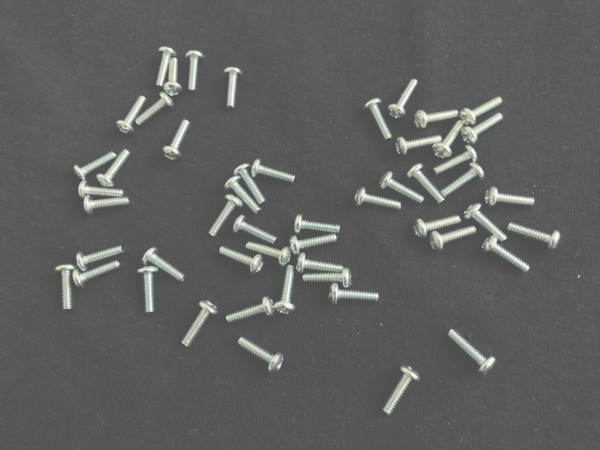shortscrew: (448, 328, 497, 376), (383, 364, 421, 416), (481, 235, 530, 272), (181, 301, 218, 348), (238, 337, 284, 374), (464, 203, 507, 242), (441, 163, 485, 198), (407, 164, 445, 204), (508, 224, 562, 252), (208, 195, 243, 238), (142, 248, 186, 282), (224, 176, 261, 215), (380, 171, 424, 203), (233, 215, 279, 245), (462, 113, 505, 145), (234, 163, 266, 205), (219, 246, 265, 275), (97, 149, 131, 188), (226, 297, 275, 324), (433, 145, 477, 175), (460, 97, 505, 126), (388, 78, 419, 120), (136, 92, 174, 126), (73, 152, 116, 182), (73, 261, 120, 288), (75, 246, 125, 271), (364, 98, 392, 142), (485, 187, 537, 210), (246, 241, 292, 267), (116, 95, 145, 136), (432, 121, 464, 158), (431, 227, 476, 253), (163, 119, 190, 162), (329, 284, 380, 306), (275, 265, 297, 316), (354, 187, 402, 210), (252, 159, 296, 184), (414, 216, 461, 239), (55, 264, 78, 311), (302, 268, 353, 289), (397, 135, 443, 157), (296, 253, 344, 274), (289, 235, 337, 256), (415, 110, 461, 131), (293, 214, 341, 234), (138, 267, 158, 314), (155, 47, 177, 88), (83, 196, 130, 215), (223, 67, 243, 111), (186, 50, 205, 93), (78, 180, 124, 197), (165, 58, 183, 98)
